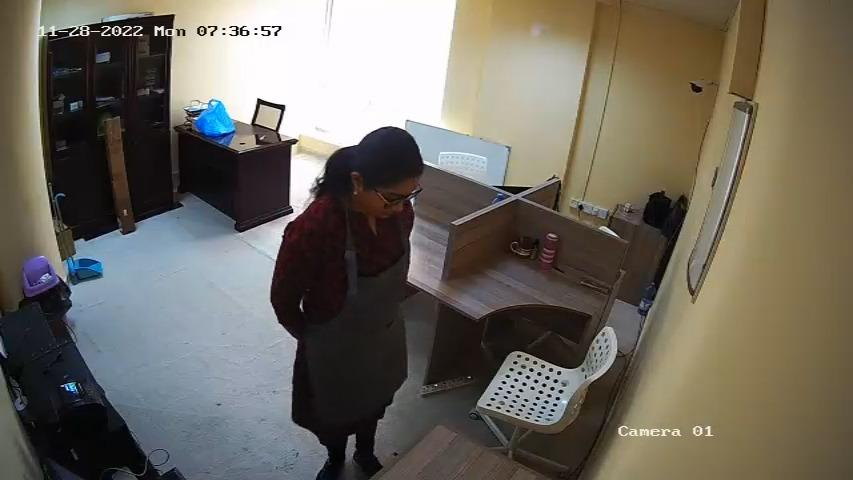apron: (297, 223, 413, 413)
